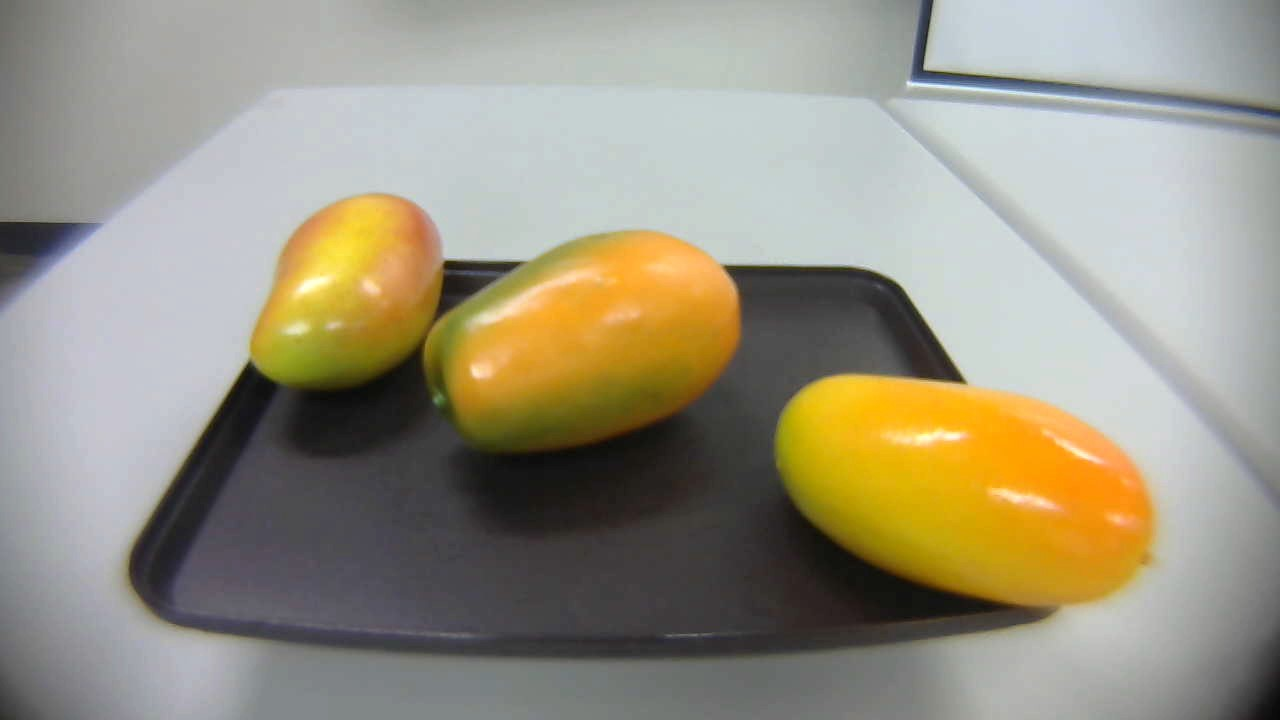papya: (414, 232, 746, 453)
red mango: (244, 188, 446, 392)
yellow mango: (757, 363, 1170, 634)
